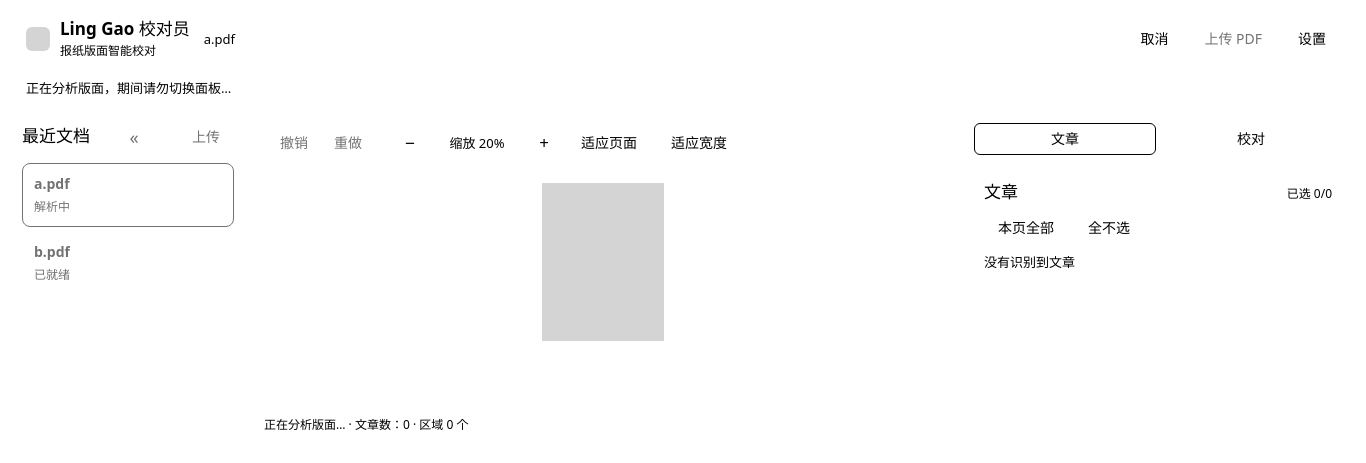
App upload integration › drops late callbacks from a cancelled flow after another document is opened
Earlier steps of the test are not shown.
Later steps or results of the test are not shown.
What coordinates should you click on to do the following:
click the button "取消"
I would click on:
 (1154, 39)
Its box is [1126,23,1182,55].
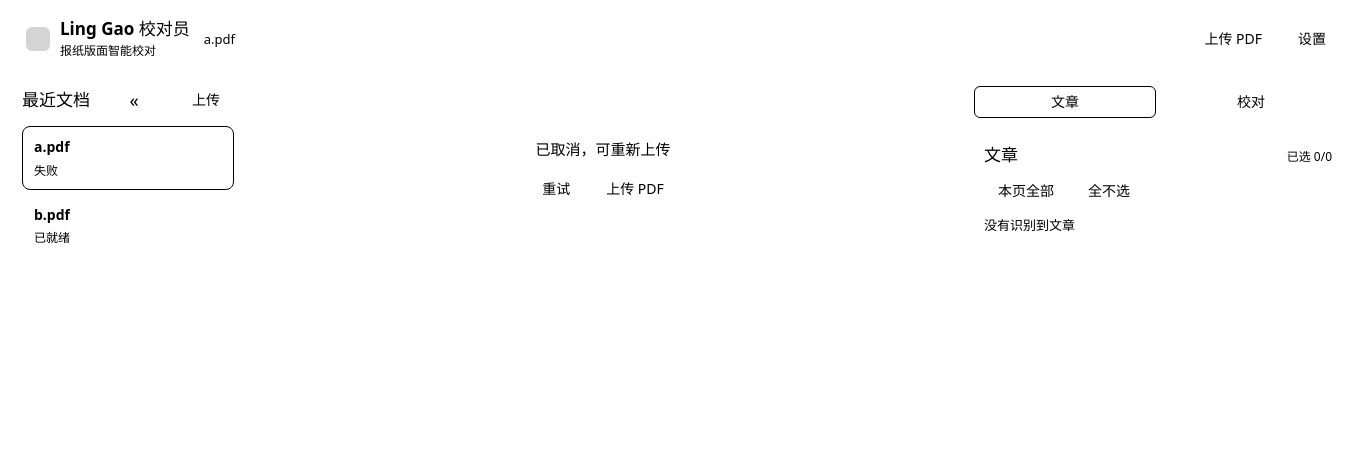
Expected: the button "b.pdf 已就绪" is enabled, [22,194,234,257]
